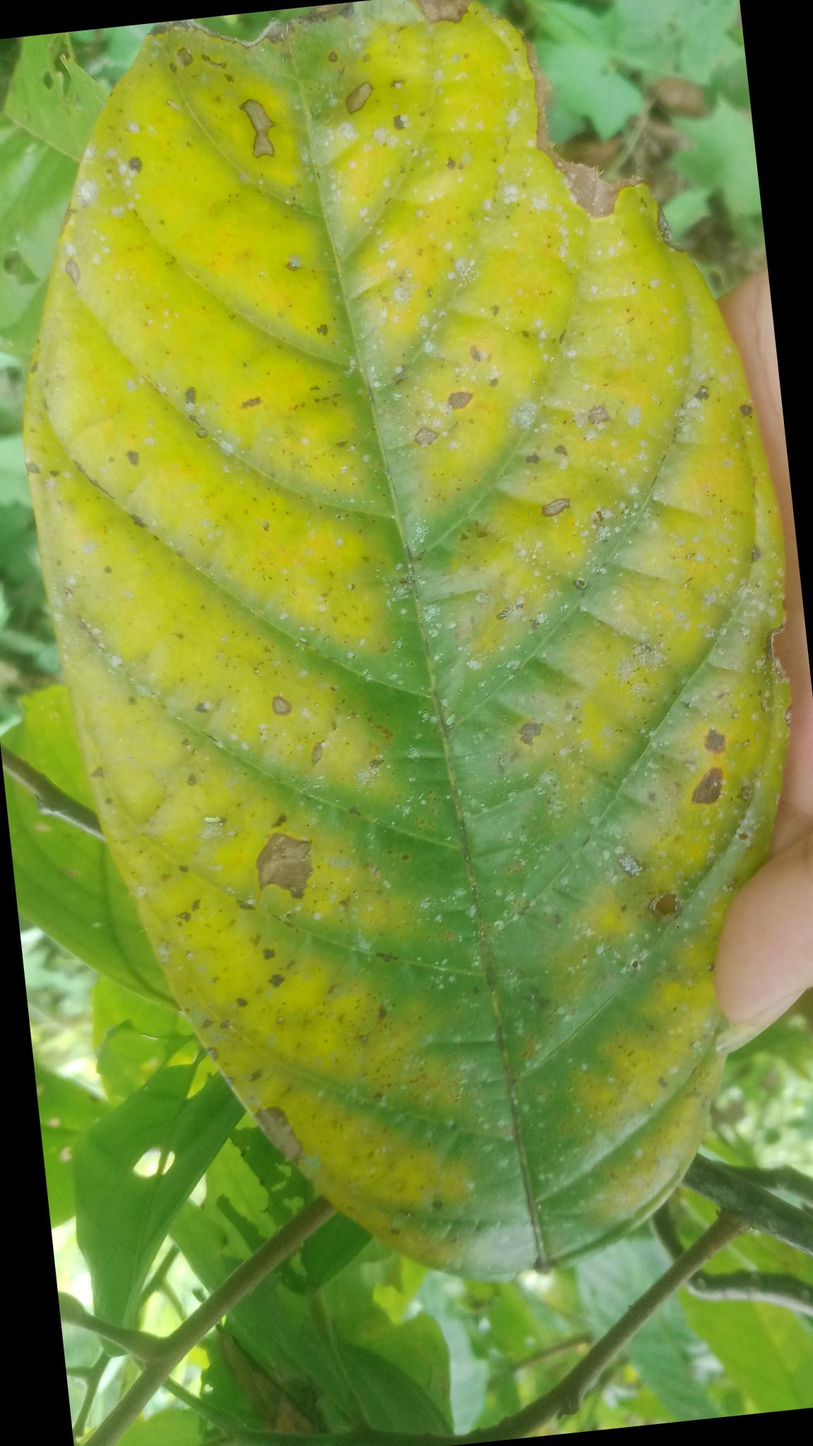Fosforo: (0, 4, 783, 1283)
